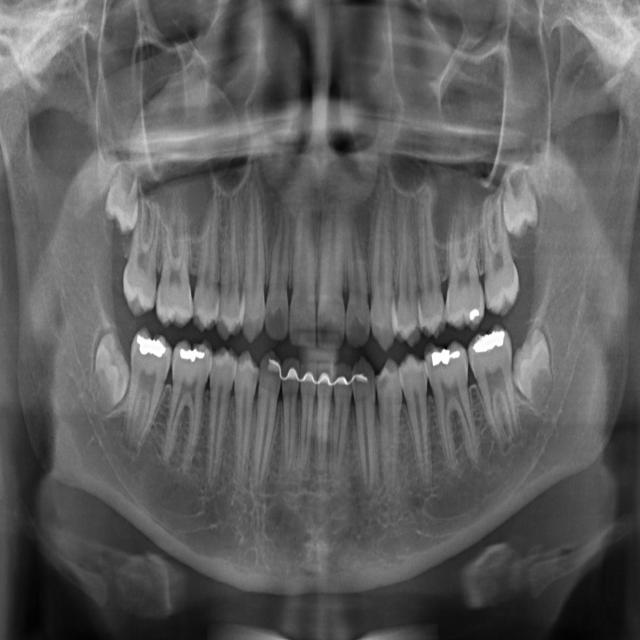AmalgamRestoration: (132, 315, 170, 371), (174, 324, 210, 369), (473, 326, 508, 364), (427, 339, 467, 372), (466, 282, 489, 324)
DentalCaries: (375, 341, 396, 402)
